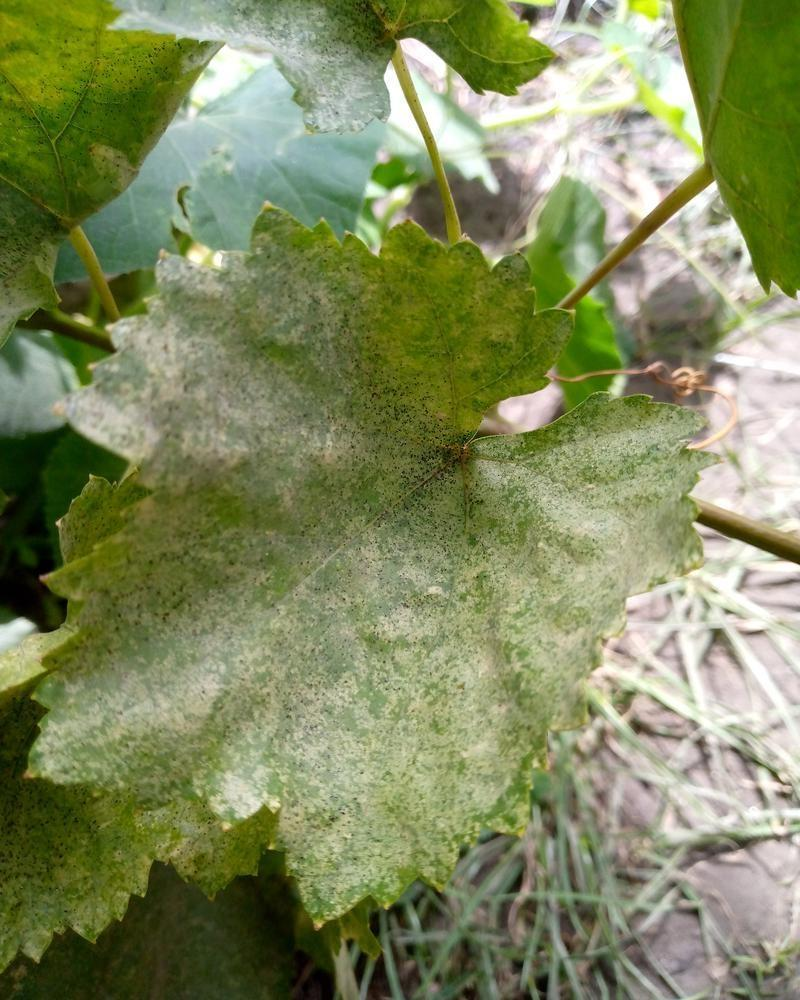Powdery-Mildew: (546, 463, 673, 590), (460, 575, 587, 702), (183, 586, 310, 713), (48, 648, 175, 775), (384, 695, 511, 822), (255, 699, 382, 826), (118, 308, 244, 435)
